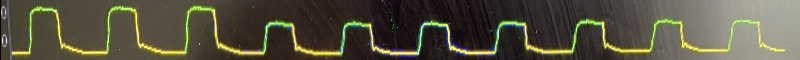normal_pressure: (9, 8, 800, 60)
